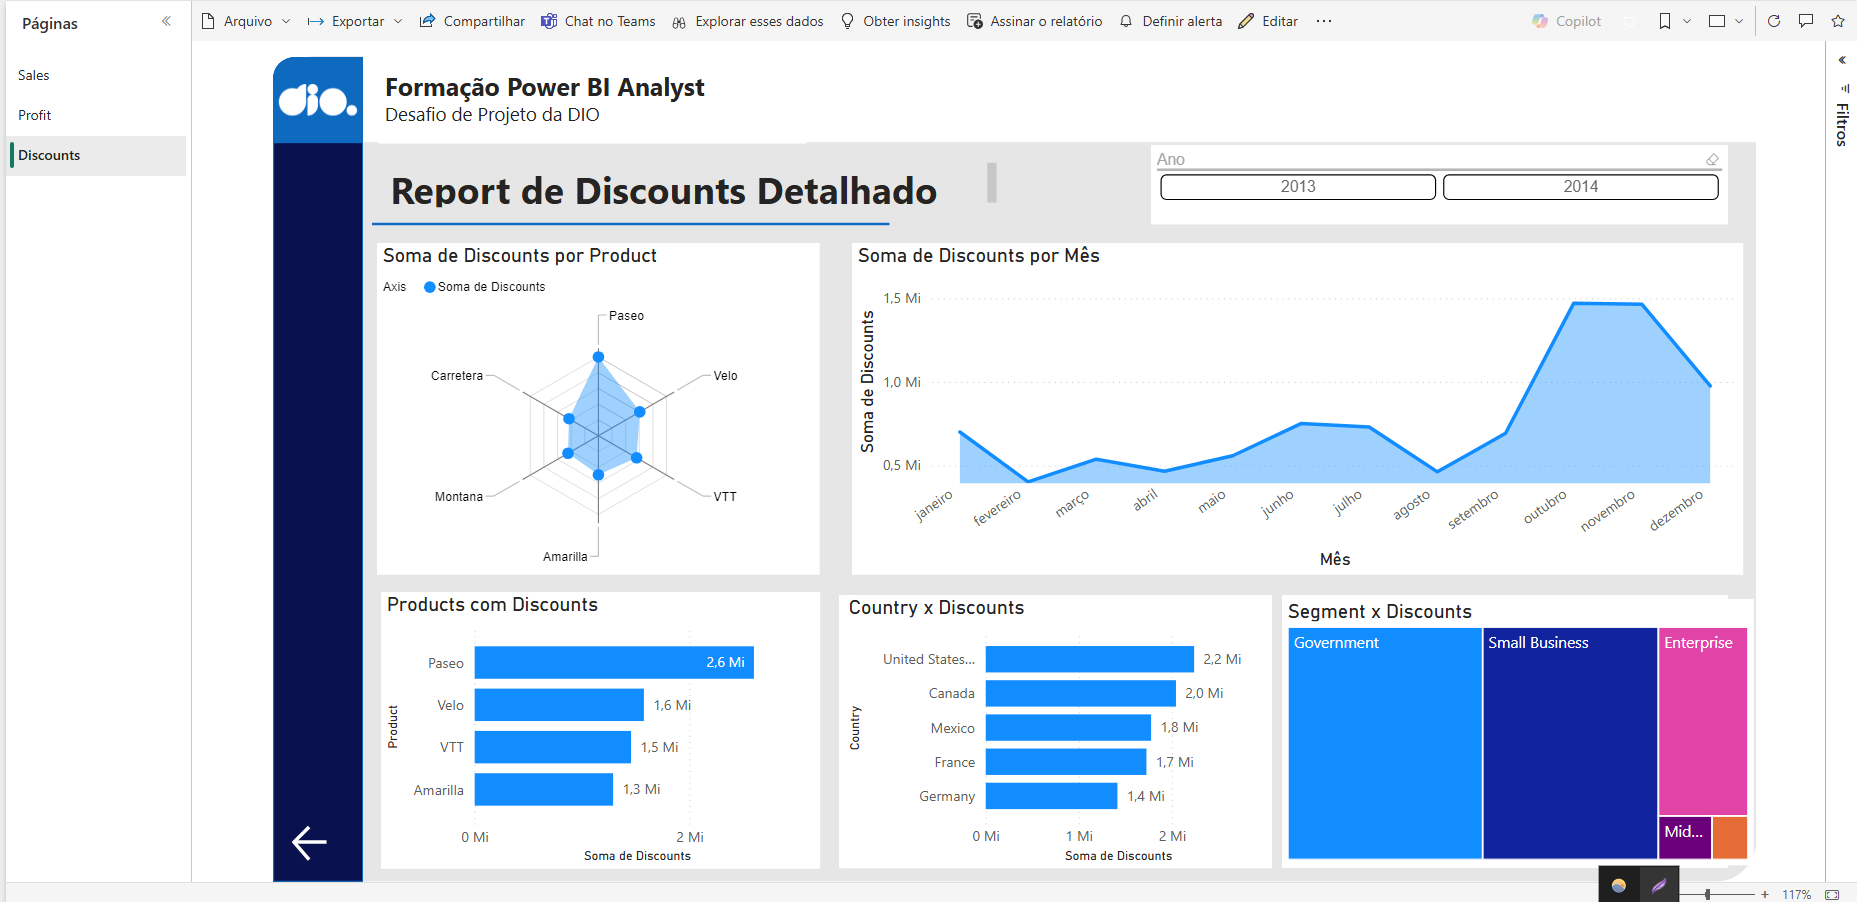

This screenshot's page, from the dashboard's own definition file:
{"tool":"powerbi","page":{"name":"Discounts","canvas":[1280,720],"ordinal":2},"visuals":[{"type":"shape","box":[10,12.8,1270,707],"z":0},{"type":"shape","box":[95.2,139.8,443.5,32.6],"z":0,"group":"g2"},{"type":"map","title":"Sales x Country","fields":{"Category":["financials.Country"],"Size":["Sum(financials. Sales)"]},"box":[873.8,476.1,382,228.1],"z":0,"group":"g1"},{"type":"textbox","box":[96.8,99,537.8,48.5],"z":1000,"group":"g2"},{"type":"clusteredBarChart","title":"Products com Discounts","fields":{"Category":["financials.Product"],"Y":["Sum(financials.Discounts)"]},"box":[102.6,471.8,376.3,236.6],"z":1000},{"type":"treemap","title":"Segment x Discounts","fields":{"Group":["financials.Segment"],"Values":["Sum(financials.Discounts)"]},"box":[874,477.8,404,228],"z":1000,"group":"g1"},{"type":"shape","box":[10.1,13.4,77.2,706.3],"z":3000},{"type":"shape","box":[10.1,13.4,77.2,73.8],"z":4000},{"type":"image","title":"logo_dio","box":[10.1,18.5,77.2,62.1],"z":5000},{"type":"shape","box":[86.9,12.8,1193.1,74.1],"z":6000},{"type":"textbox","box":[100.7,18.5,365.7,68.8],"z":7000},{"type":"shape","box":[494.6,474.7,370.6,233.8],"z":8000},{"type":"shape","box":[873.8,474.7,382,233.8],"z":9000},{"type":"clusteredBarChart","title":"Country x Discounts","fields":{"Category":["financials.Country"],"Y":["Sum(financials.Discounts)"]},"box":[498.3,474.5,366.9,233.8],"z":10000},{"type":"group","id":"g1","title":"Sales x país","box":[873.8,476.1,404.2,229.8],"z":11000},{"type":"group","id":"g2","title":"Title report","box":[95.2,99,539.4,73.4],"z":12000},{"type":"ChicletSlicer1448559807354","fields":{"Category":["financials.Date.Variation.Hierarquia de datas.Ano"]},"box":[762.2,88.9,493.8,68.2],"z":14000},{"type":"RadarChart1446119667547","fields":{"Y":["Sum(financials.Discounts)"],"Category":["financials.Product"]},"box":[99.7,173.3,378.9,283.7],"z":15000},{"type":"areaChart","fields":{"Category":["financials.Date.Variation.Hierarquia de datas.Mês"],"Y":["Sum(financials.Discounts)"]},"box":[506.3,173.3,763.1,283.7],"z":15001},{"type":"actionButton","box":[22,666.8,48.1,39.9],"z":15002}]}

Visuals, with their boxes on the page's 1280x720 design canvas (x1, y1, x2, y2). These are canvas units, not pixel positions in the 1857x902 screenshot, which may show the page scaled, cropped or inside an application window:
shape: <box>10,13,1280,720</box>
shape: <box>95,140,539,172</box>
"Sales x Country" map: <box>874,476,1256,704</box>
textbox: <box>97,99,635,148</box>
"Products com Discounts" clusteredBarChart: <box>103,472,479,708</box>
"Segment x Discounts" treemap: <box>874,478,1278,706</box>
shape: <box>10,13,87,720</box>
shape: <box>10,13,87,87</box>
"logo_dio" image: <box>10,18,87,81</box>
shape: <box>87,13,1280,87</box>
textbox: <box>101,18,466,87</box>
shape: <box>495,475,865,708</box>
shape: <box>874,475,1256,708</box>
"Country x Discounts" clusteredBarChart: <box>498,474,865,708</box>
"Sales x país" group: <box>874,476,1278,706</box>
"Title report" group: <box>95,99,635,172</box>
ChicletSlicer1448559807354 - financials.Date.Variation.Hierarquia de datas.Ano: <box>762,89,1256,157</box>
RadarChart1446119667547 - Sum(financials.Discounts) x financials.Product: <box>100,173,479,457</box>
areaChart - financials.Date.Variation.Hierarquia de datas.Mês x Sum(financials.Discounts): <box>506,173,1269,457</box>
actionButton: <box>22,667,70,707</box>
